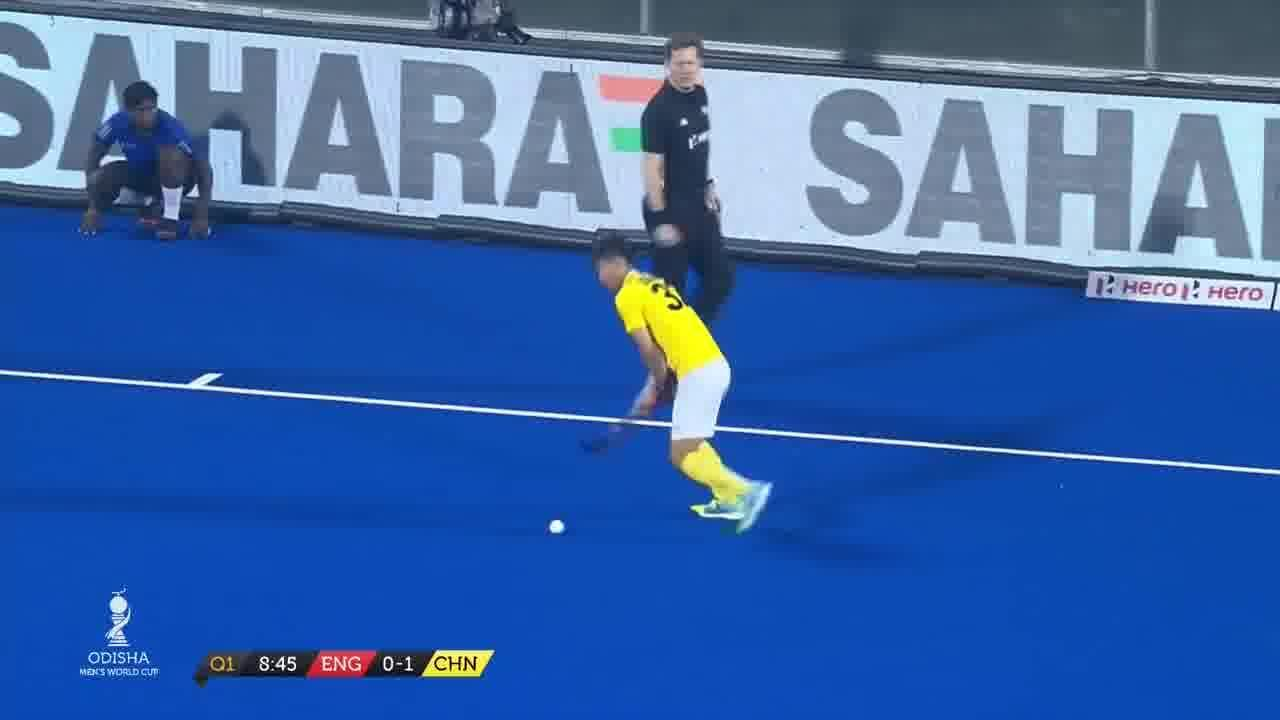ball: (543, 510, 574, 542)
